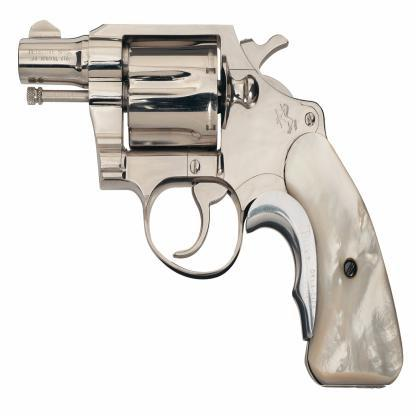gun: (8, 15, 402, 400)
